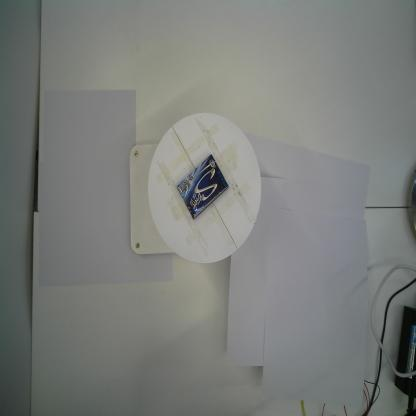Gum: (175, 154, 229, 220)
